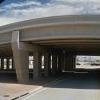Bridge: (5, 9, 98, 60)
